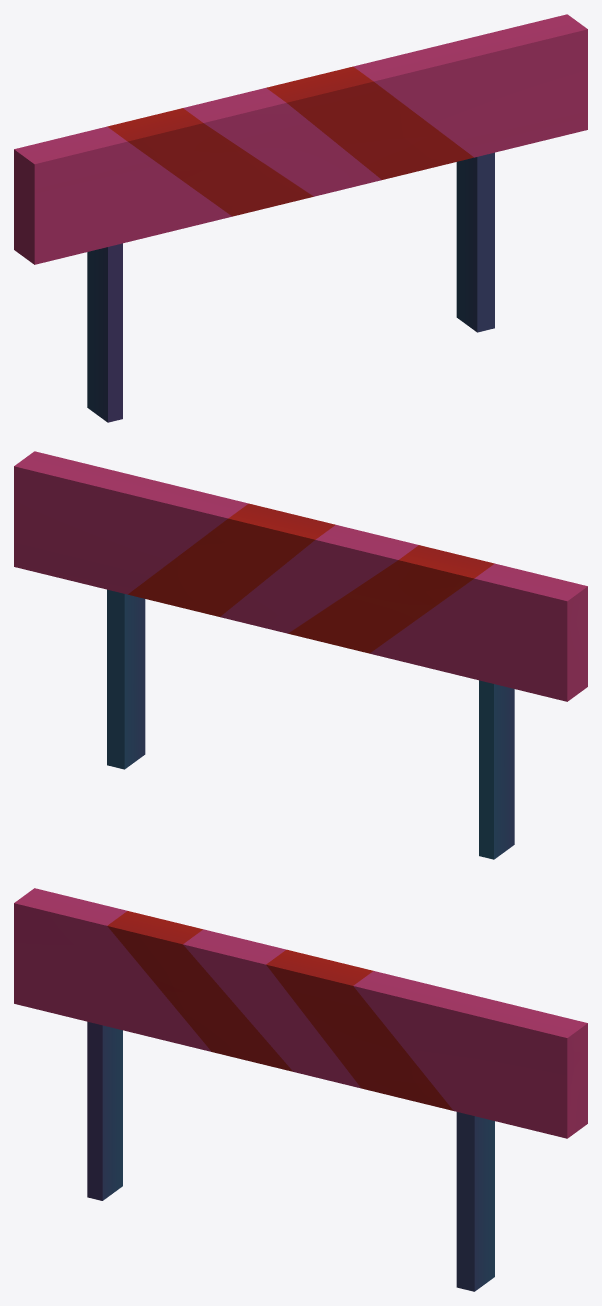
Rendered from Test Fence.fbx.
3 renders of one model, top to bottom at view 1: azimuth 30°, elevation 25°; view 2: azimuth 150°, elevation 25°; view 3: azimuth 330°, elevation 25°, orthographic.
Parts seen in each view (by area): view 1: Cube.046; view 2: Cube.046; view 3: Cube.046.
Part boxes in pixels (box(x1,y1,x2,y2)): Cube.046: box(14, 14, 587, 422); Cube.046: box(14, 451, 587, 859); Cube.046: box(14, 888, 587, 1291).
Size of the model in its own units: 248 by 118 by 15.96.
